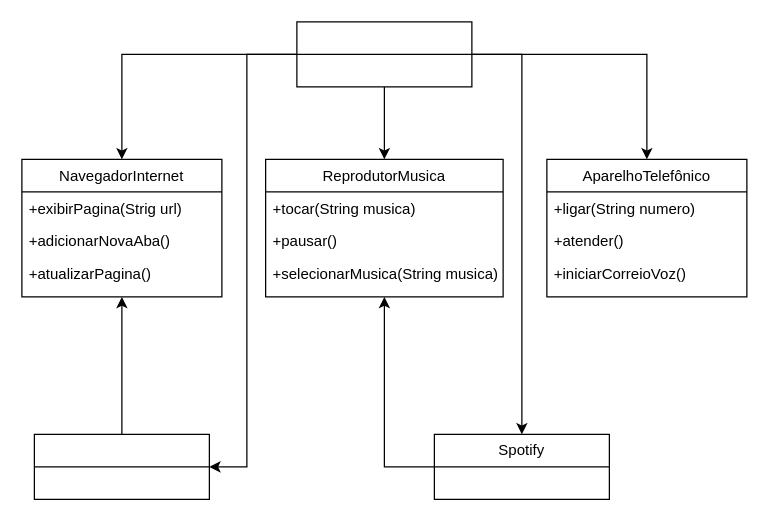
Image size: 769x521. Some labels were removed from this diagram. The centre of each missing label's shape, as x and y in pixels:
"Google" goes at [121,466].
"Iphone" goes at [384,54].
